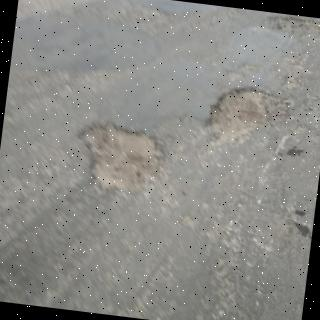pothole: (80, 120, 161, 194), (205, 88, 270, 149)
